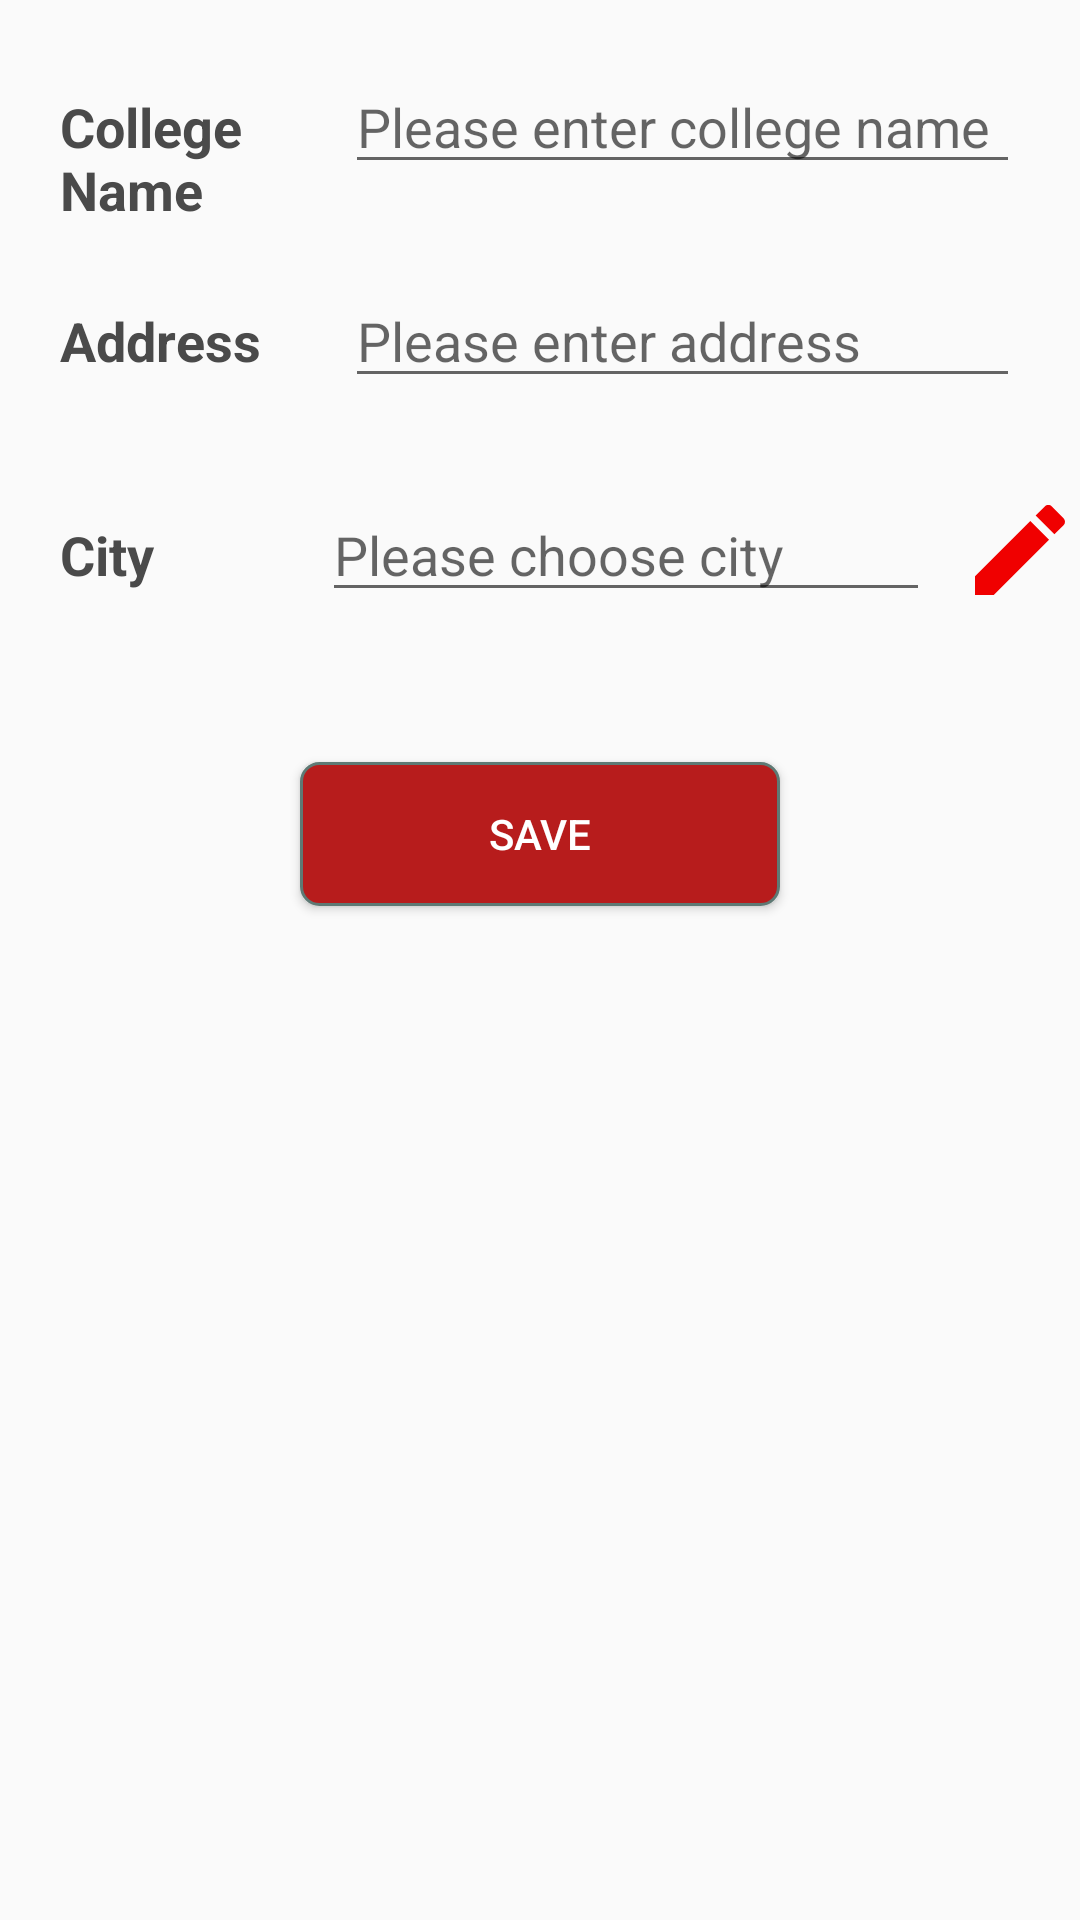

Icon bounding boxes for this 1080px x 1920px phone screenshot, format (x1, y1, x2, y2):
edit: (975, 505, 1065, 595)
